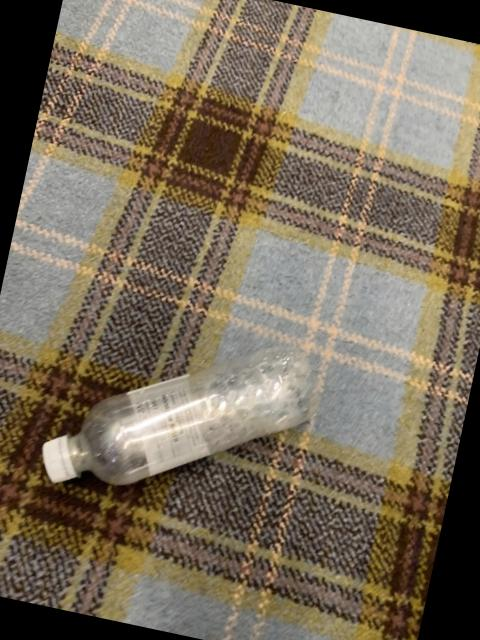plastic: (44, 346, 317, 483)
